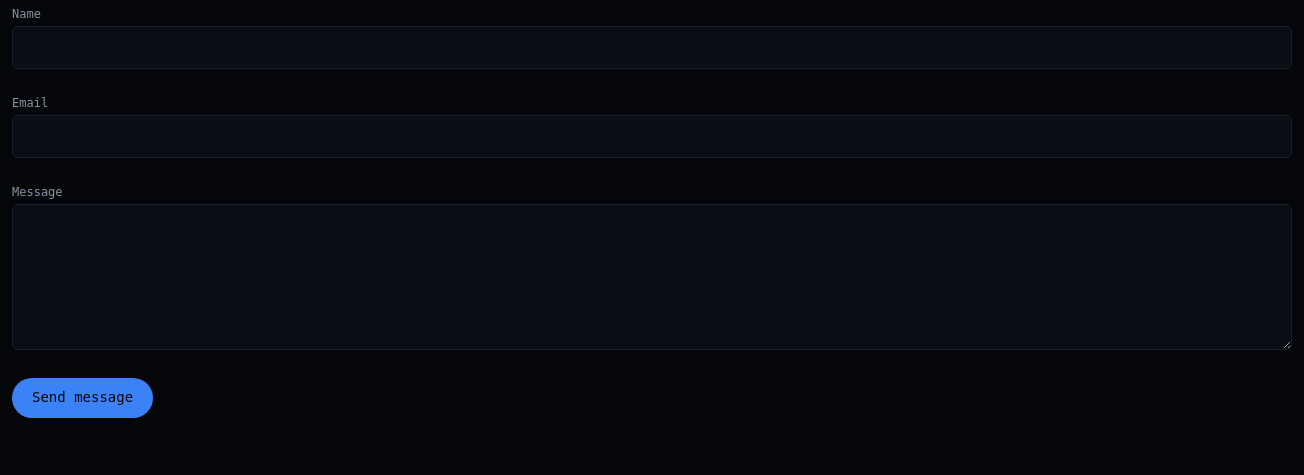
Test: ContactForm › offers a mailto link when the API is down
Type "Rina" into the field labelled "Name" at x=652, y=47, box [12,26,1292,69]
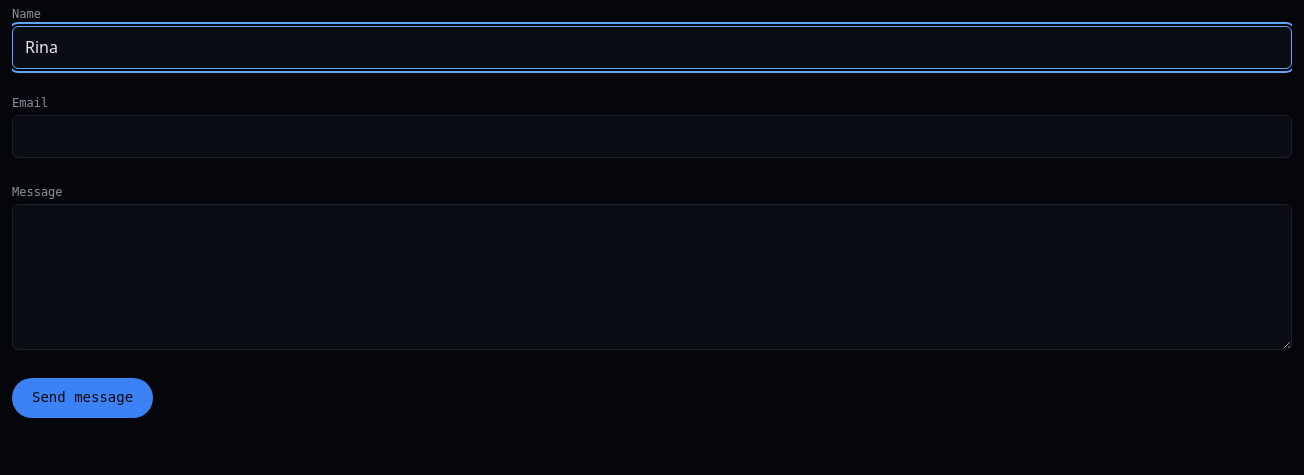
Type "rina@example.com" into the field labelled "Email" at x=652, y=137, box [12,115,1292,158]
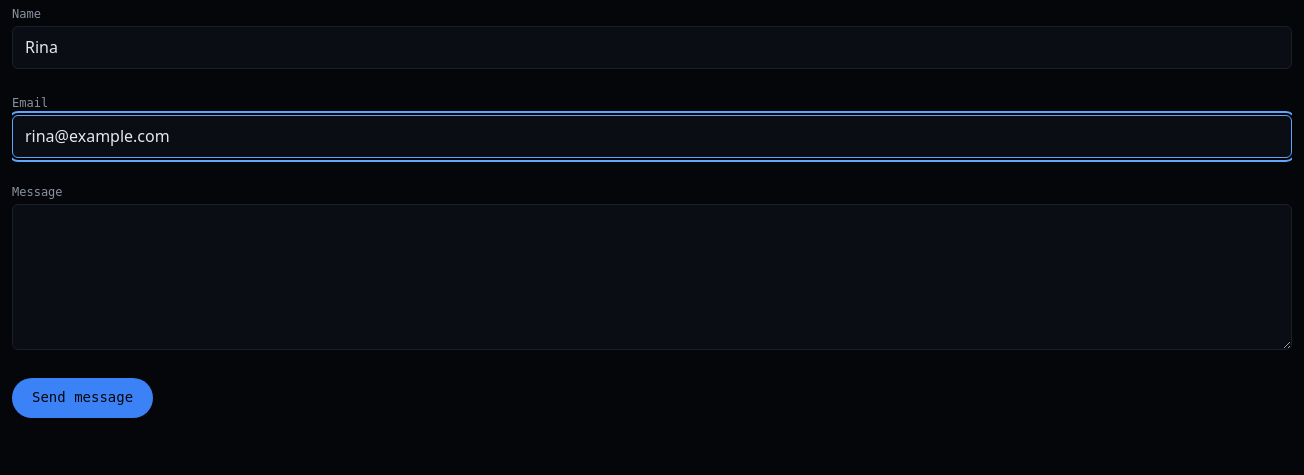
Type "Halo, mau ngobrol soal proyek." into the text box labelled "Message" at x=652, y=277, box [12,204,1292,350]
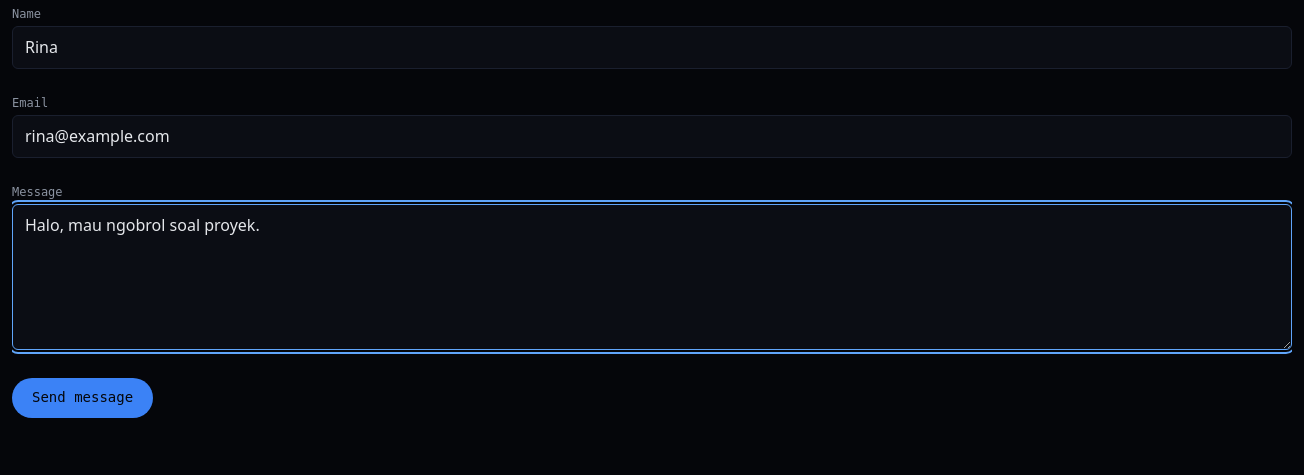
Click the button "Send message" at x=83, y=398, box [12,378,153,418]
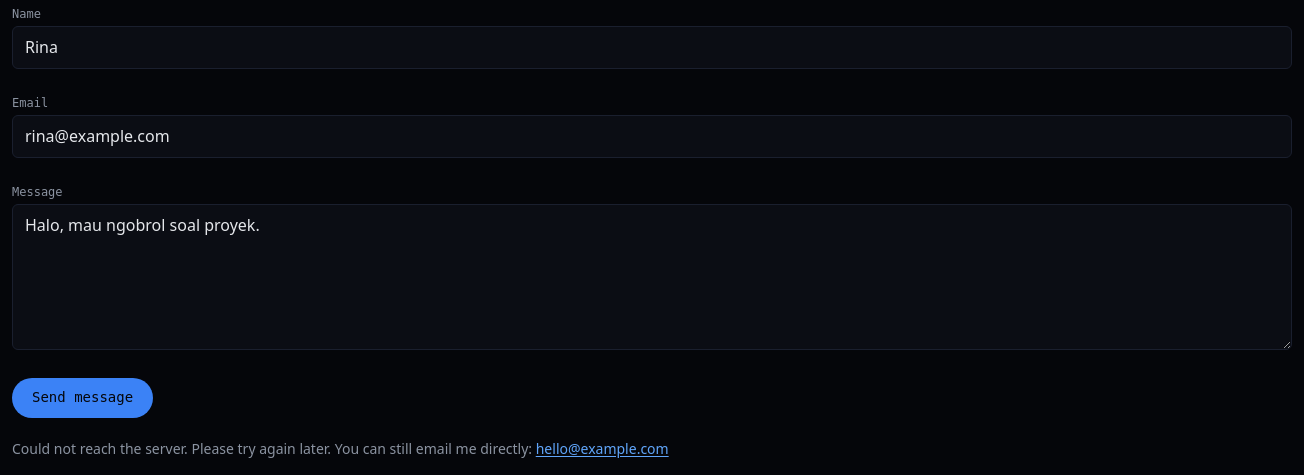
Expected: the text "Could not reach the server. Please try again later." is shown, [12,438,331,458]
